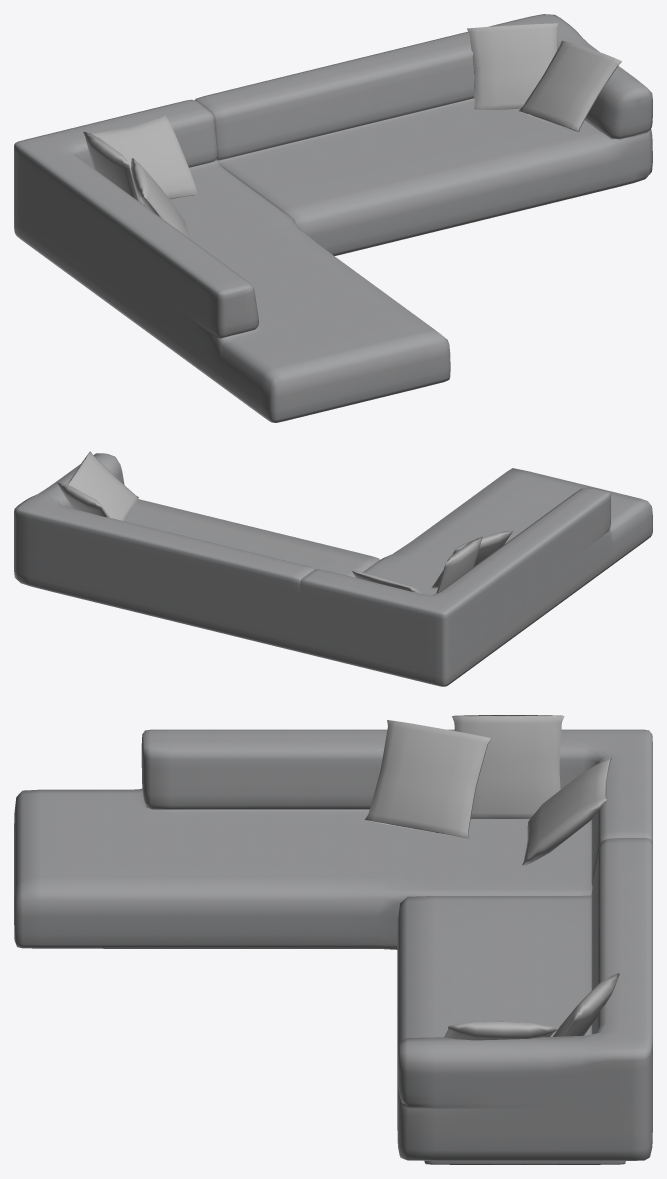
The model's file is couch2.gltf.
3 renders of one model, top to bottom at view 1: azimuth 30°, elevation 25°; view 2: azimuth 150°, elevation 25°; view 3: azimuth 270°, elevation 25°, orthographic. The views are drawn at different scales.
Parts seen in each view (by area): view 1: sofa, pillow3, pillow4, pillow1, pillow2, pillow5; view 2: sofa, pillow4, pillow2, pillow3, pillow5, pillow1; view 3: sofa, pillow5, pillow2, pillow1, pillow4, pillow3.
Part boxes in pixels (box(x1,y1,x2,y2)): sofa: box(14, 14, 652, 422); pillow3: box(467, 23, 558, 109); pillow4: box(519, 40, 621, 131); pillow1: box(90, 115, 197, 205); pillow2: box(83, 131, 141, 203); pillow5: box(131, 158, 190, 238); sofa: box(14, 453, 652, 686); pillow4: box(67, 451, 138, 521); pillow2: box(436, 537, 482, 593); pillow3: box(57, 482, 109, 517); pillow5: box(431, 530, 513, 588); pillow1: box(352, 570, 422, 593); sofa: box(14, 729, 652, 1164); pillow5: box(365, 720, 491, 838); pillow2: box(452, 715, 564, 818); pillow1: box(522, 757, 611, 865); pillow4: box(444, 1021, 557, 1040); pillow3: box(553, 973, 619, 1036).
Bounding box in the file's own units: 3.5 × 0.8045 × 2.92.
Materials: 4 (1 with a texture image).
